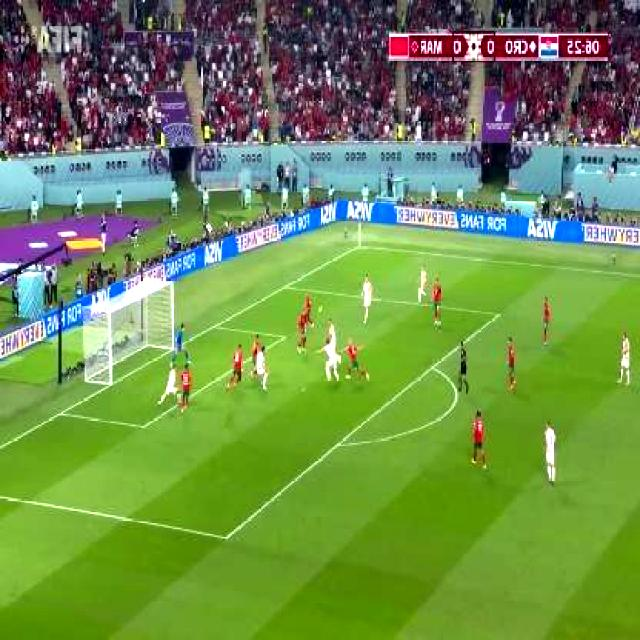bigarea_bottom_inner: (217, 522, 238, 552)
bigarea_top_inner: (492, 303, 508, 323)
bigarea_top_outter: (280, 277, 294, 294)
bottom_arc_area_intersection: (329, 432, 348, 456)
corner: (354, 240, 369, 252)
smallarea_bottom_inner: (134, 412, 152, 438)
smallarea_bottom_outter: (54, 403, 71, 423)
smallarea_top_inner: (278, 326, 292, 345)
smallarea_top_outter: (208, 316, 223, 336)
top_arc_area_intersection: (426, 357, 442, 375)
